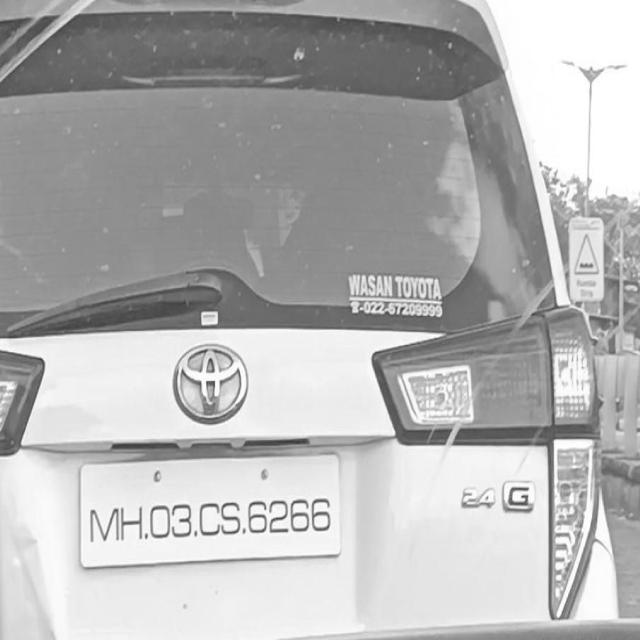license-plate: (74, 458, 341, 566)
